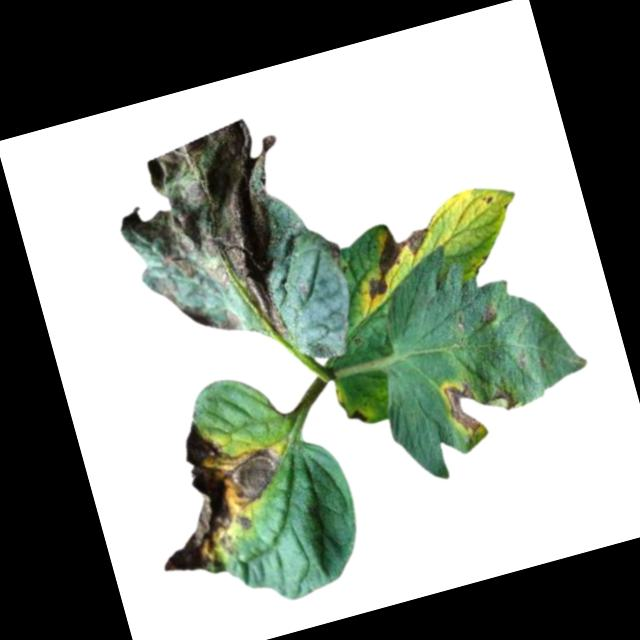Early_blight: (99, 110, 328, 372), (127, 400, 308, 589), (351, 214, 444, 300), (439, 364, 523, 440), (478, 304, 503, 331), (327, 240, 344, 267), (346, 408, 371, 425)
